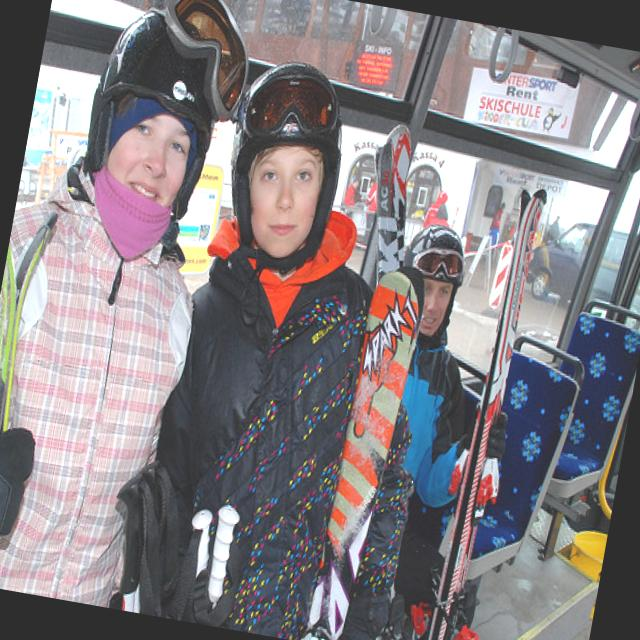Vehicle: (519, 210, 640, 330)
